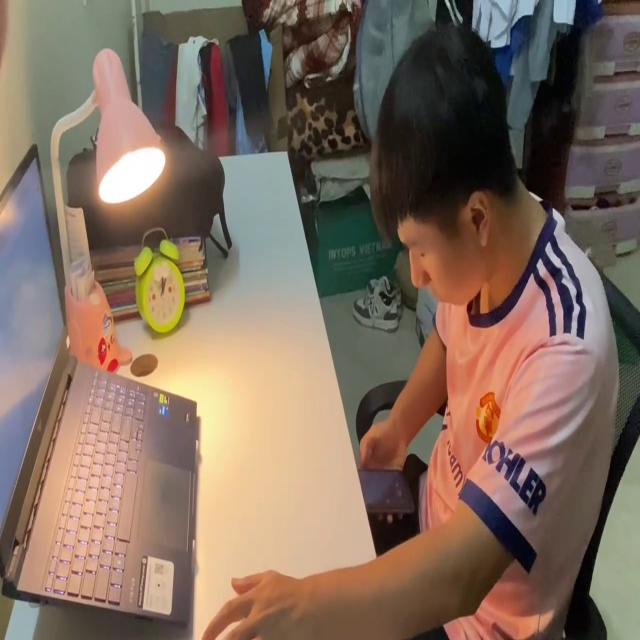laptop: (0, 139, 199, 632)
phone: (358, 466, 412, 521)
student: (205, 26, 618, 640)
